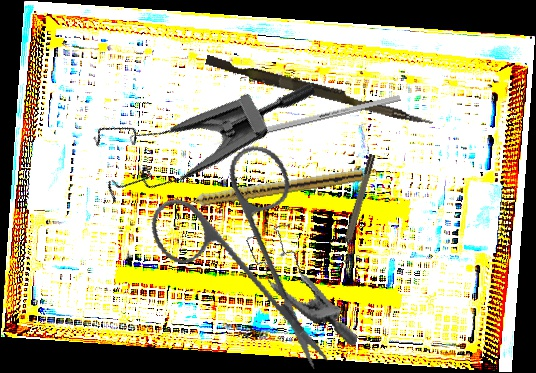Fixation Ring: (335, 153, 382, 264)
Handpiece: (173, 165, 365, 211)
Iris Scissors: (126, 126, 372, 372)
Pusher: (203, 54, 436, 128), (213, 93, 401, 148)
Speculum: (71, 6, 320, 237), (225, 213, 385, 347)
